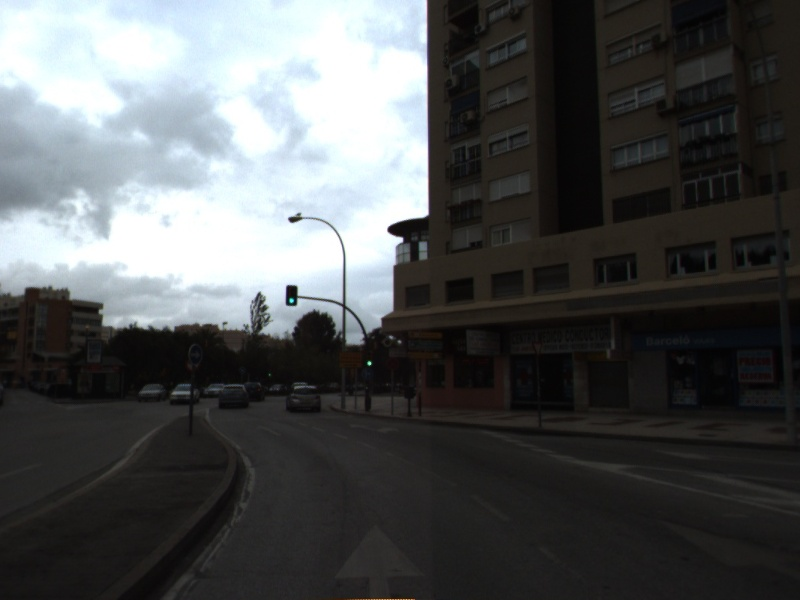STRAIGHT: (652, 515, 800, 588), (330, 521, 428, 600)
STRAIGHT_RIGHT: (347, 421, 401, 436)
